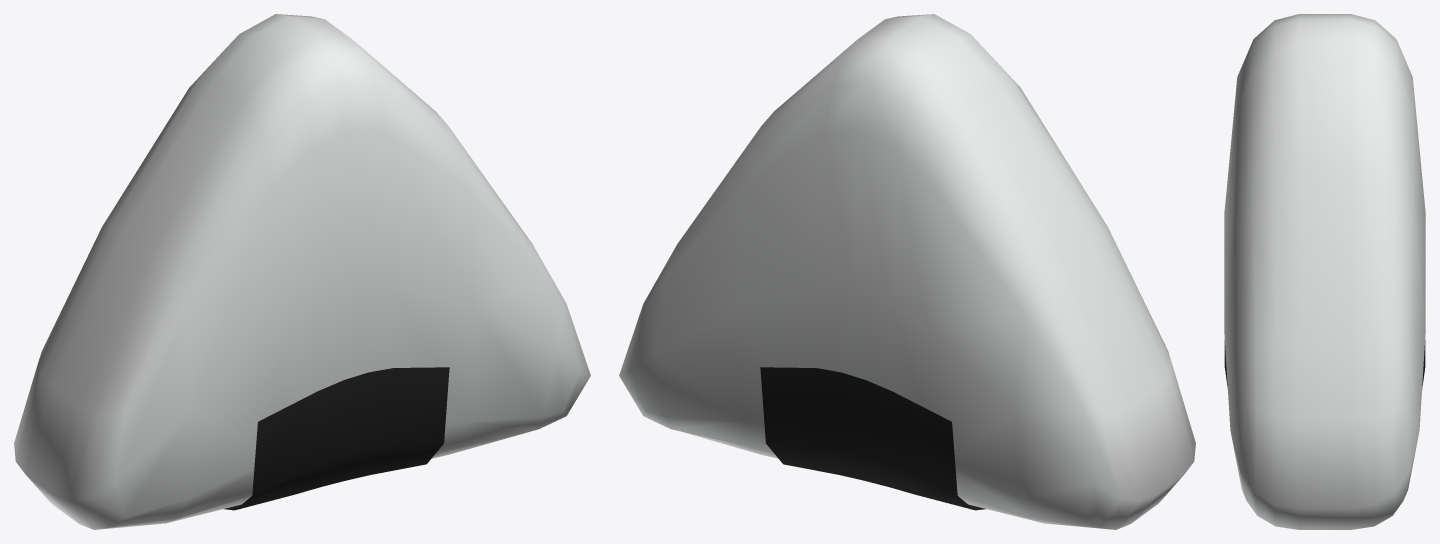
File: onigiri.glb
3 views of the same model, side by side, from view 1: azimuth 30°, elevation 25°; view 2: azimuth 150°, elevation 25°; view 3: azimuth 270°, elevation 25° (orthographic). The views are drawn at different scales.
Parts seen in each view (by area): view 1: Food_Onigiri; view 2: Food_Onigiri; view 3: Food_Onigiri.
Boxes of the visible parts, left/top/right/bottom form: Food_Onigiri: left=14, top=14, right=590, bottom=529; Food_Onigiri: left=619, top=14, right=1195, bottom=529; Food_Onigiri: left=1224, top=14, right=1425, bottom=529.
Bounding box in the file's own units: 0.5856 × 0.4774 × 0.2075.
1 material, 1 textured.
